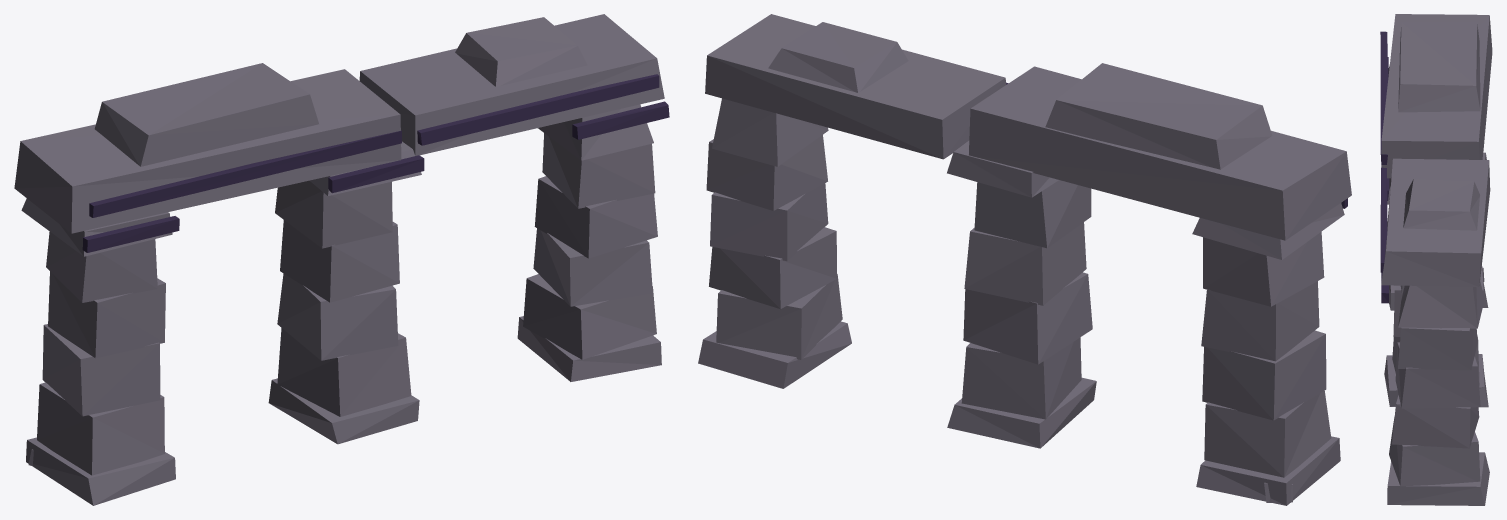
The model's file is CR_Colonnade.fbx.
3 views of the same model, side by side, from view 1: azimuth 30°, elevation 25°; view 2: azimuth 150°, elevation 25°; view 3: azimuth 270°, elevation 25° (orthographic). The views are drawn at different scales.
Parts seen in each view (by area): view 1: CR_Colonnade_Stone, CR_Colonnade_Trim; view 2: CR_Colonnade_Stone; view 3: CR_Colonnade_Stone, CR_Colonnade_Trim.
Part boxes in pixels (<box>): CR_Colonnade_Stone: <box>14,14,664,505</box>; CR_Colonnade_Trim: <box>82,74,669,252</box>; CR_Colonnade_Stone: <box>698,14,1351,505</box>; CR_Colonnade_Stone: <box>1381,14,1492,505</box>; CR_Colonnade_Trim: <box>1380,31,1389,303</box>.
Bounding box in the file's own units: 25 × 14.02 × 5.01.
